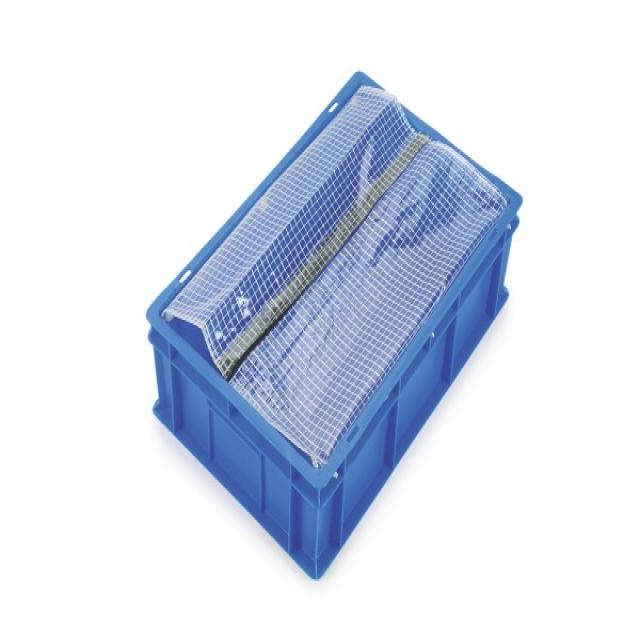basket: (80, 57, 581, 582)
